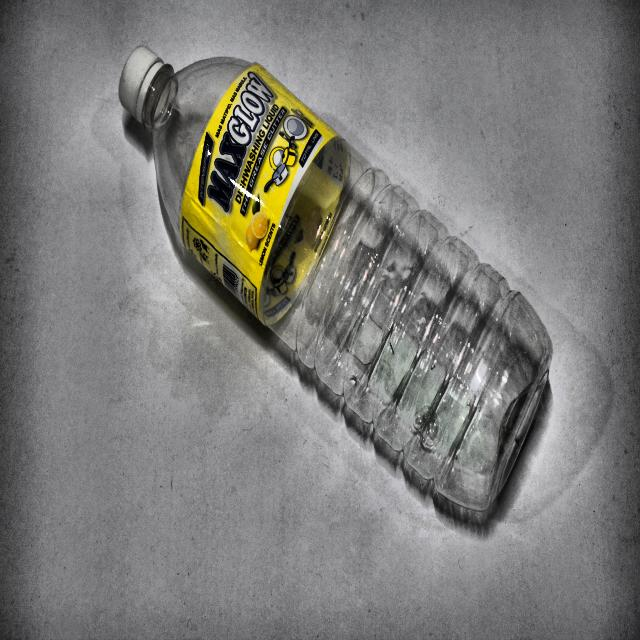Bottles: (111, 35, 559, 520)
